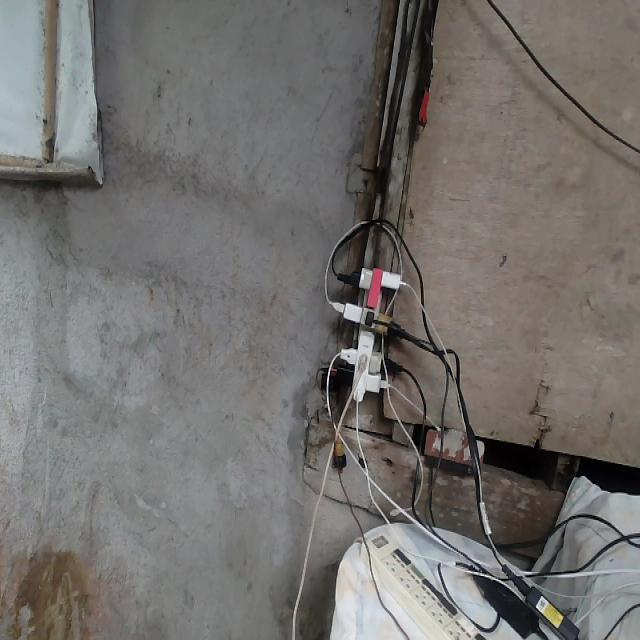-: (315, 264, 415, 400)
